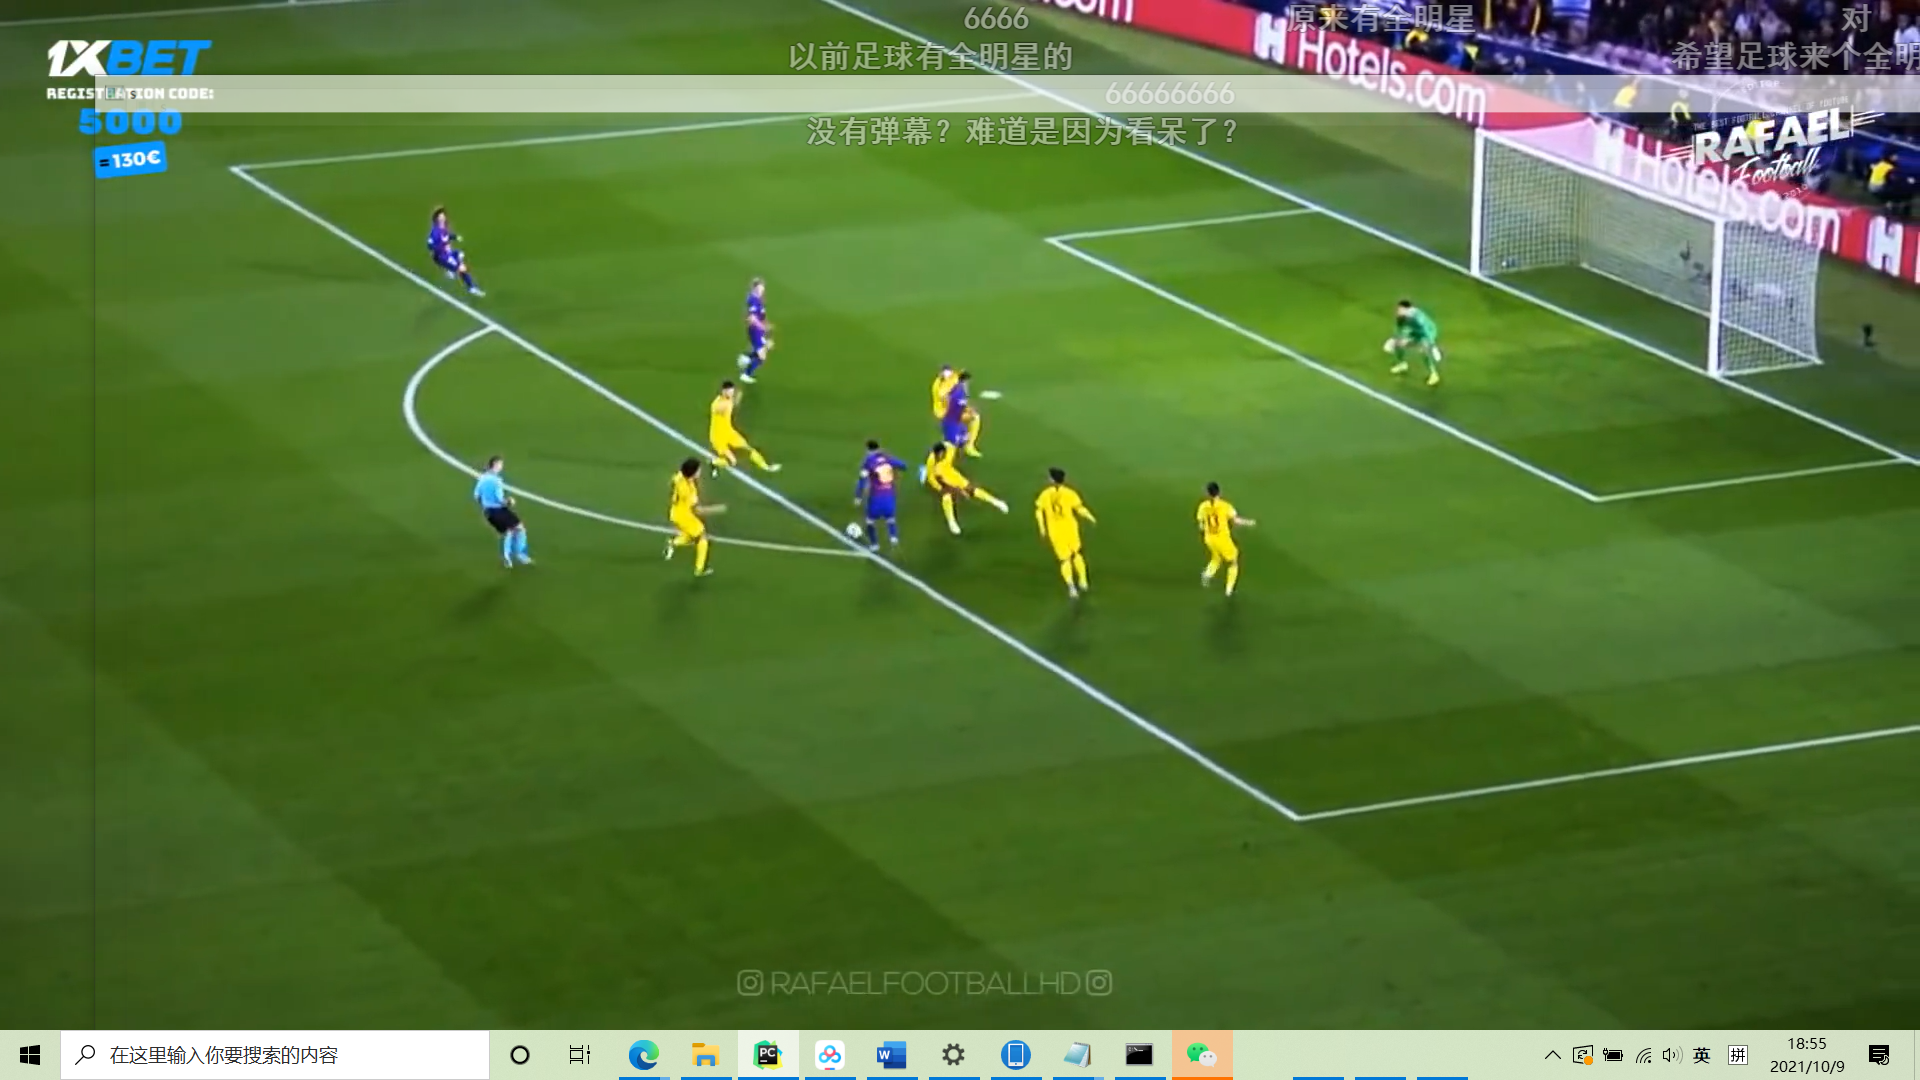ft: (845, 520, 864, 541)
